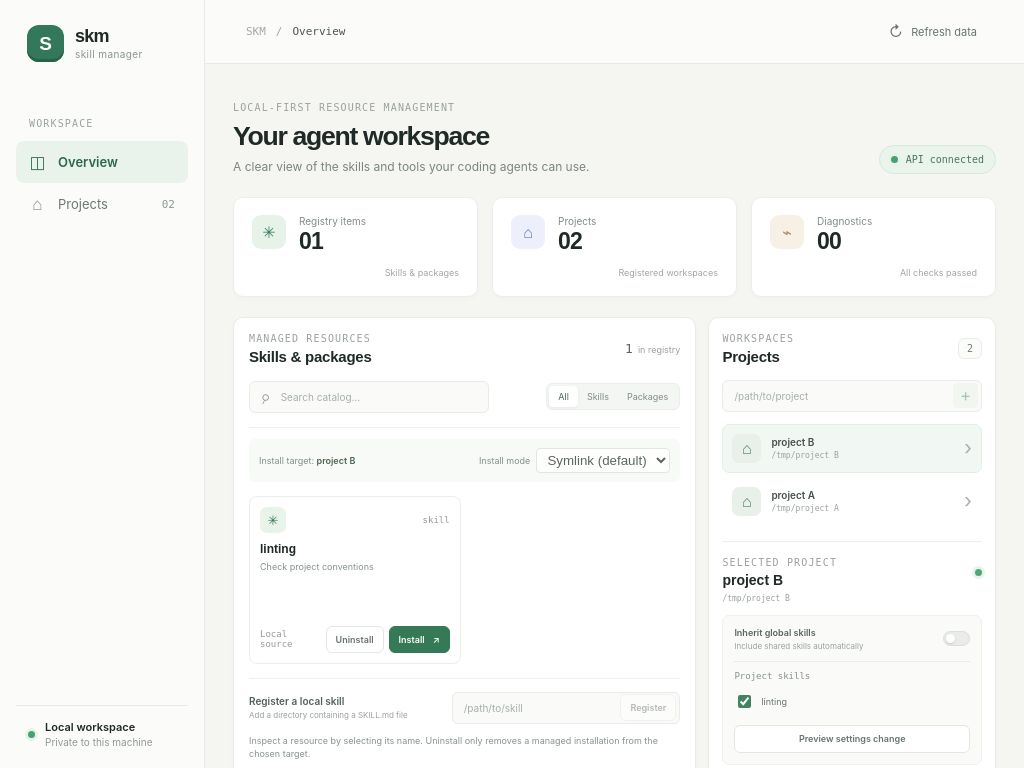
Scenario: App workflows › reports completed and failed steps without claiming a partial operation succeeded
The width and height of the screenshot is (1024, 768).
Step 1. Click the button "Install ↗" → click(419, 639), box [389,626,450,653]
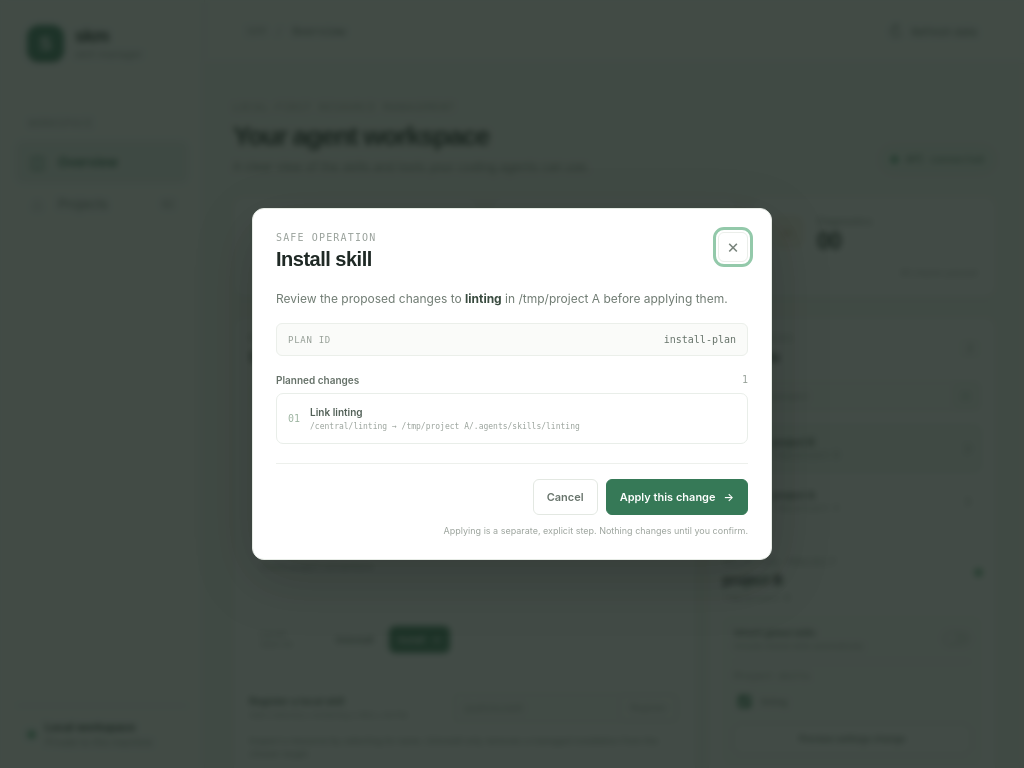
Step 2. Click the button "Apply this change →" → click(677, 497), box [606,479,748,515]
(page scrolled)
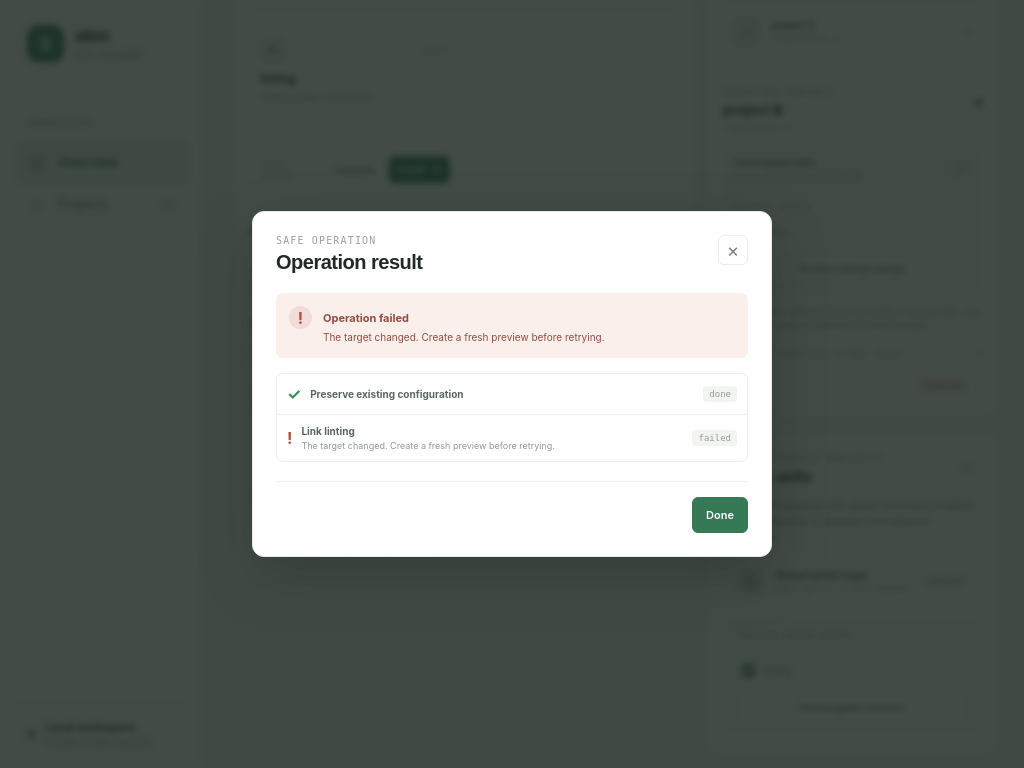
Expected: the dialog with class "operation-dialog" shows "Operation failed", [323,311,409,325]
Expected: the dialog with class "operation-dialog" shows "Preserve existing configuration", [310,388,464,400]
Expected: the dialog with class "operation-dialog" shows "Create a fresh preview before retrying", [323,331,605,343]
